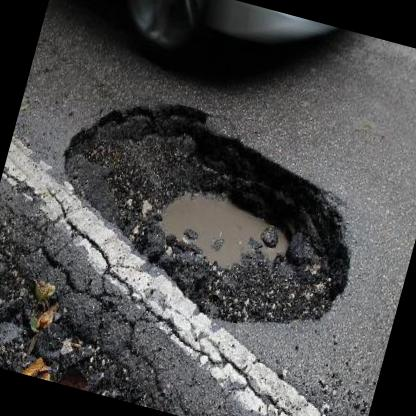pothole: (29, 72, 382, 352)
